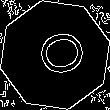O_W: (25, 28, 85, 82)
